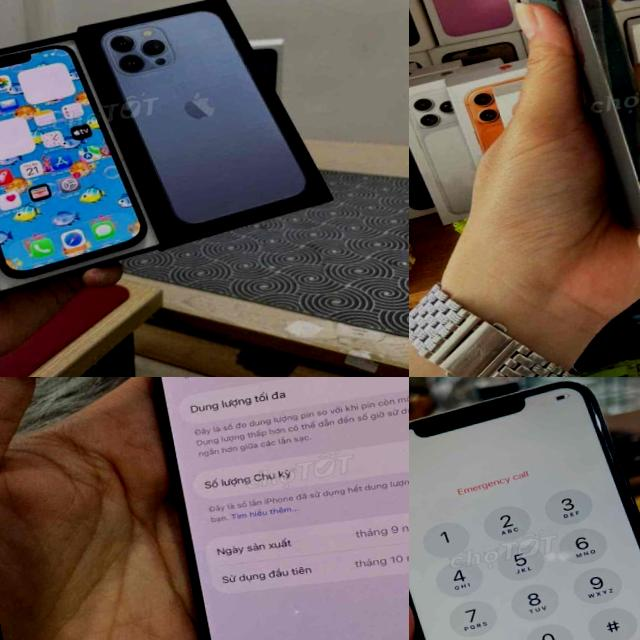gen_11: (409, 377, 640, 640)
gen_12_13: (0, 28, 153, 285)
gen_14: (508, 0, 640, 249)
gen_16: (155, 377, 409, 640)
